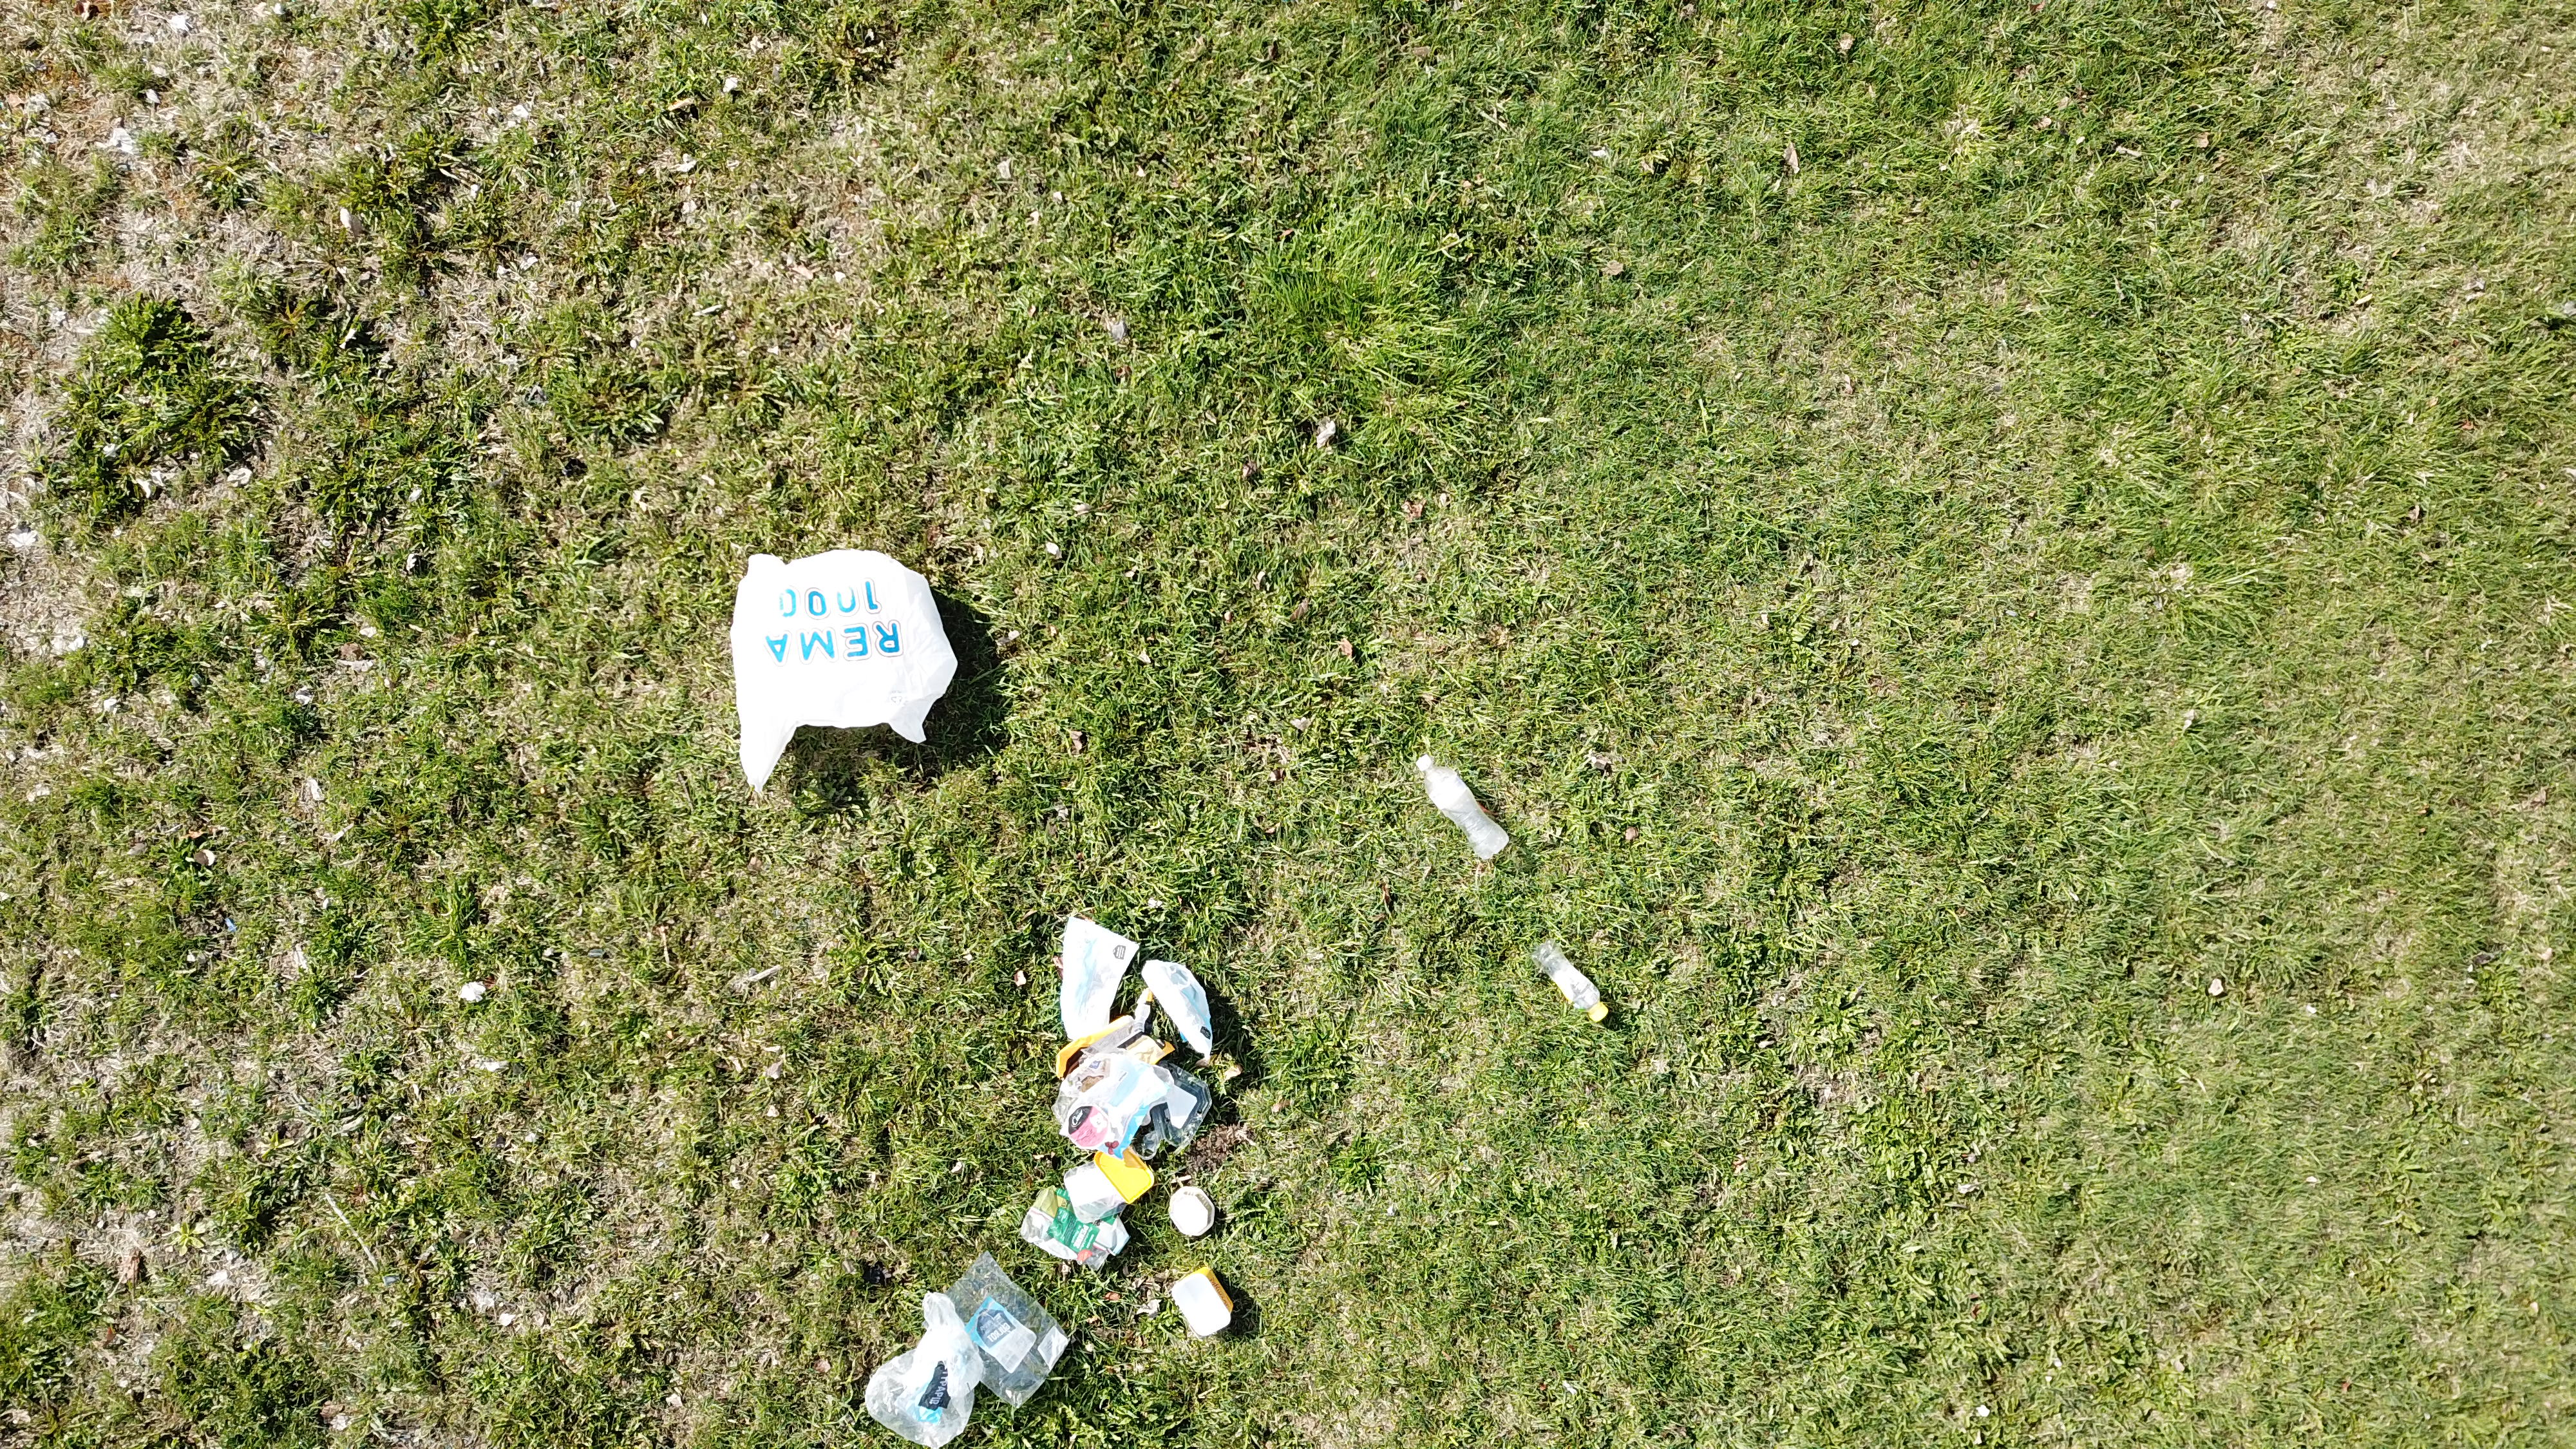Plastic: (729, 547, 964, 789), (945, 1249, 1069, 1412), (863, 1295, 977, 1447), (1056, 1044, 1161, 1148), (1058, 991, 1178, 1081), (1063, 915, 1138, 1035), (1136, 1063, 1221, 1155), (1023, 1185, 1115, 1269), (1141, 957, 1214, 1058), (1171, 1267, 1233, 1338), (1093, 1141, 1154, 1205), (1063, 1161, 1127, 1217), (1169, 1185, 1212, 1237)
PlasticBottle: (1414, 750, 1507, 862), (1532, 941, 1610, 1021)
